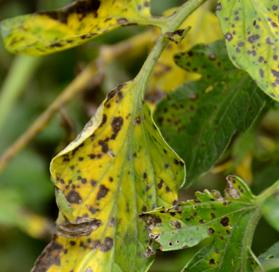Tomato Early blight leaf: (14, 76, 165, 272), (0, 0, 160, 53), (209, 0, 279, 120)
